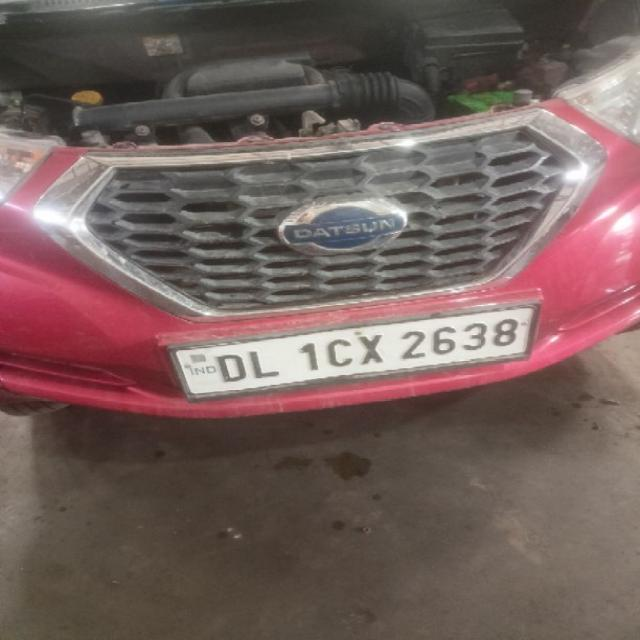license_plate: (165, 300, 541, 402)
